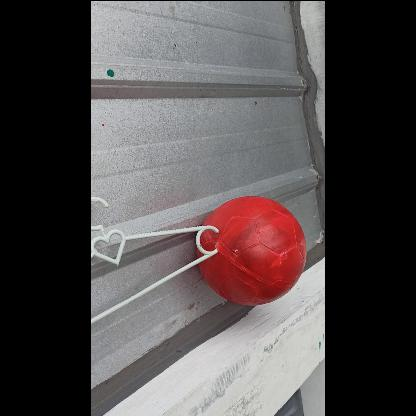red_ball: (196, 193, 308, 304)
